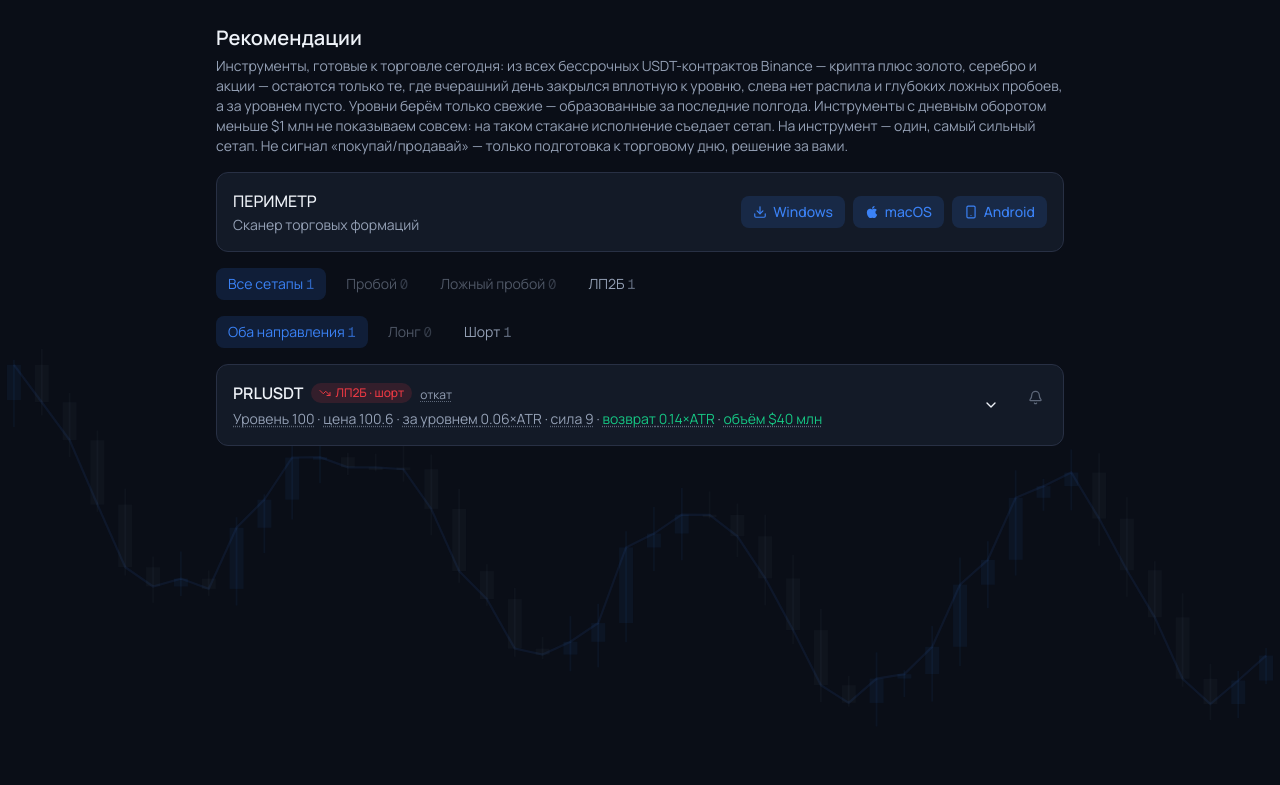
Scenario: ЛП2Б card › warns when today's bar has already taken the price back
Expected: the text "ЛП2Б · шорт" is shown, 312,383 -> 412,403
Click the text "PRLUSDT": (268, 393) 233,381 -> 304,405
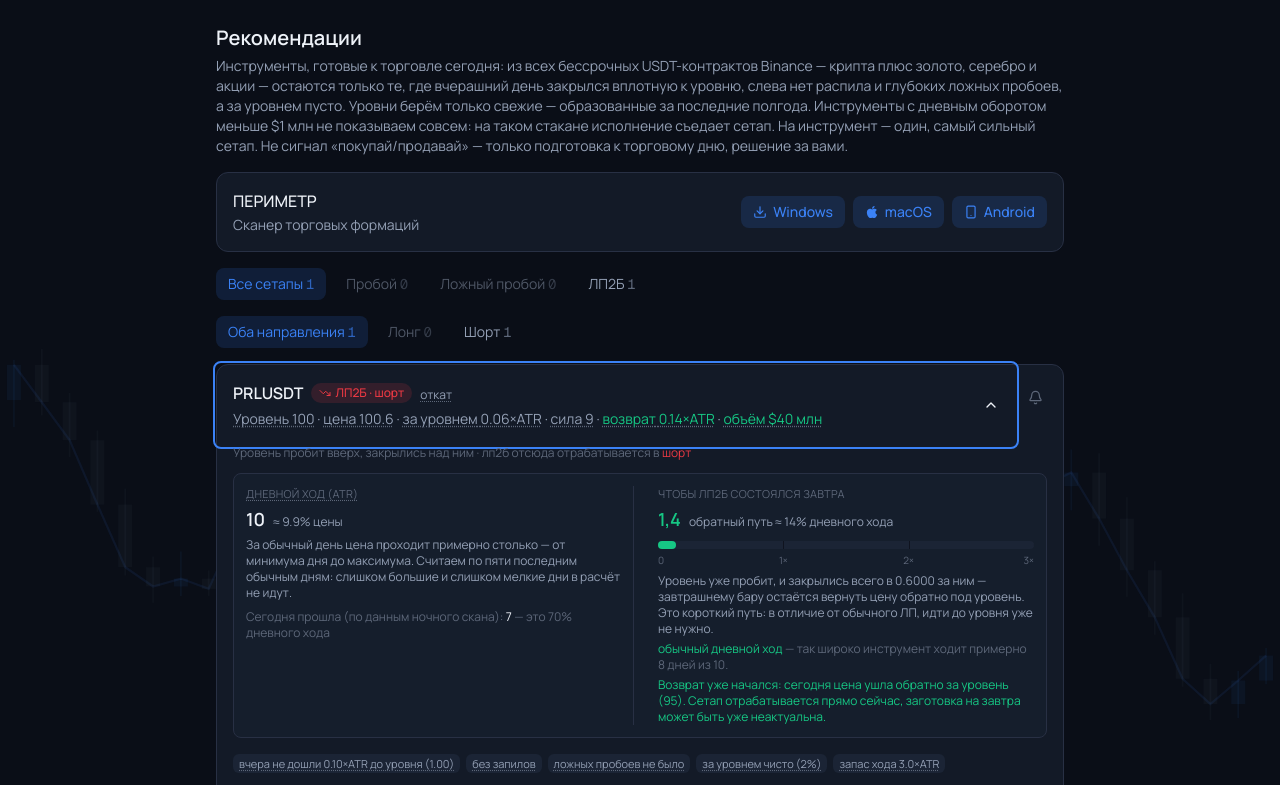
Expected: the text "Возврат уже начался" is shown, 658,676 -> 1009,708
